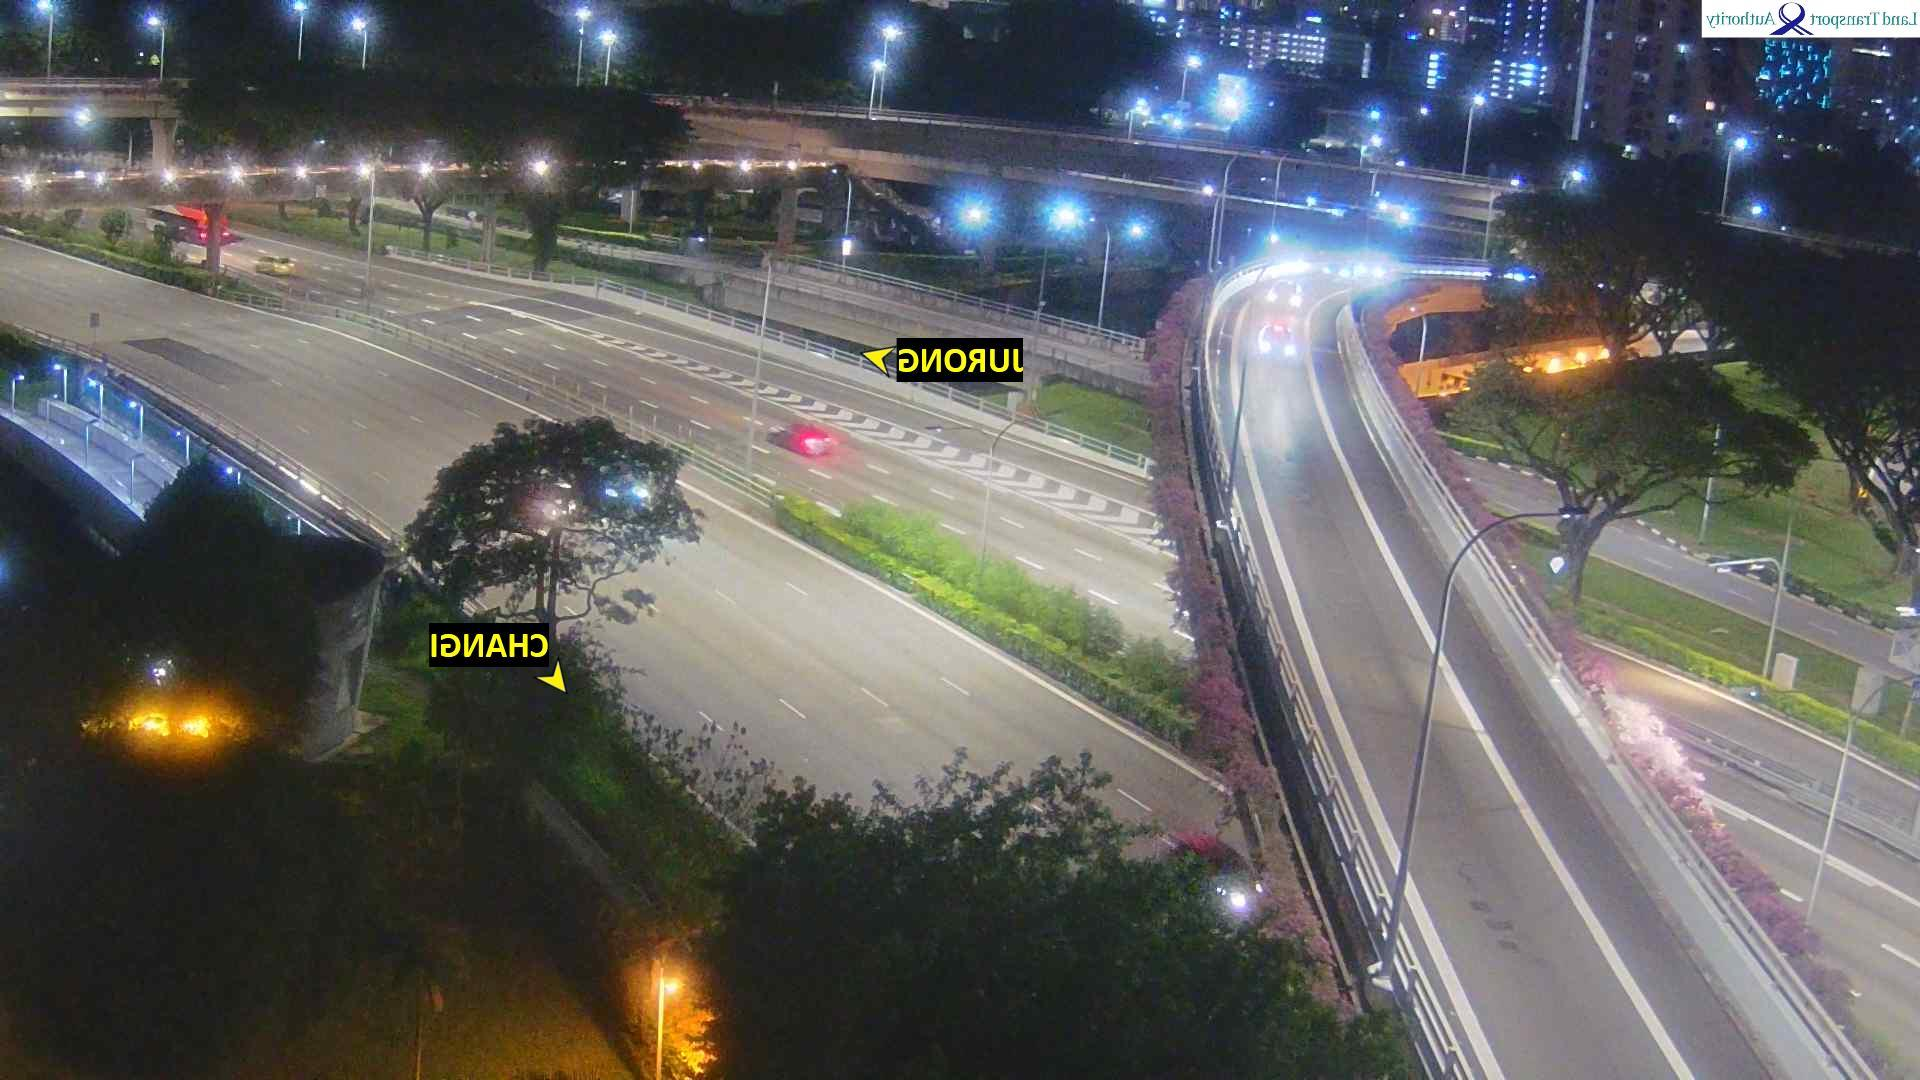bus: (148, 200, 235, 245)
cars: (1163, 825, 1265, 920), (583, 458, 659, 518), (516, 473, 579, 533), (767, 421, 837, 458), (1258, 318, 1302, 361), (1265, 277, 1305, 309), (256, 251, 299, 276), (1305, 132, 1353, 153)
